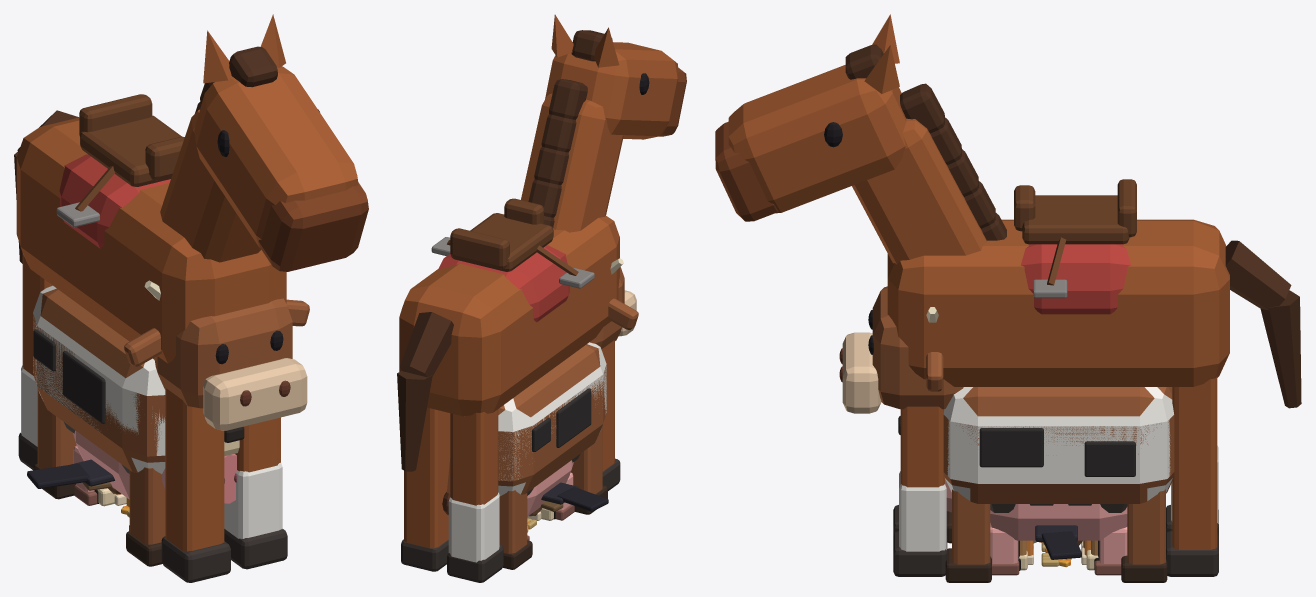
The model's file is animals.glb.
3 views of the same model, side by side, from view 1: azimuth 30°, elevation 25°; view 2: azimuth 150°, elevation 25°; view 3: azimuth 270°, elevation 25° (orthographic). The views are drawn at different scales.
Visible parts, largest first — view 1: head_mesh (×4), body_mesh (×5), leg_fr_mesh (×2), saddle_mesh, leg_fl_mesh, leg_br_mesh (×3), ear_r_mesh (×2), wing_r_mesh, ear_l_mesh (×2), tail_mesh; view 2: body_mesh (×5), head_mesh (×2), leg_br_mesh (×2), saddle_mesh, leg_bl_mesh, tail_mesh, leg_fr_mesh (×2), ear_r_mesh (×2), wing_r_mesh, ear_l_mesh; view 3: body_mesh (×4), head_mesh (×2), leg_bl_mesh (×3), saddle_mesh, leg_fl_mesh (×3), tail_mesh, wing_l_mesh, ear_l_mesh.
Part boxes in pixels (x1,y1,x2,y2): head_mesh (×4): (144,46,368,503); body_mesh (×5): (16,117,286,499); leg_fr_mesh (×2): (126,388,230,582); saddle_mesh: (56,94,184,248); leg_fl_mesh: (224,417,287,569); leg_br_mesh (×3): (18,253,97,505); ear_r_mesh (×2): (124,30,231,366); wing_r_mesh: (27,459,114,488); ear_l_mesh (×2): (260,14,309,326); tail_mesh: (14,110,78,263); body_mesh (×5): (399,215,619,516); head_mesh (×2): (521,30,686,349); leg_br_mesh (×2): (447,409,532,582); saddle_mesh: (431,198,594,322); leg_bl_mesh: (401,407,450,571); tail_mesh: (397,312,453,471); leg_fr_mesh (×2): (571,340,620,514); ear_r_mesh (×2): (594,27,638,329); wing_r_mesh: (541,482,608,511); ear_l_mesh: (551,14,573,57); body_mesh (×4): (887,219,1229,540); head_mesh (×2): (715,44,1006,413); leg_bl_mesh (×3): (1094,376,1218,582); saddle_mesh: (1014,179,1136,314); leg_fl_mesh (×3): (893,406,1019,582); tail_mesh: (1225,240,1301,408); wing_l_mesh: (1035,525,1081,559); ear_l_mesh: (864,45,899,93).
Bounding box in the file's own units: 1.21 × 2.71 × 2.74.
